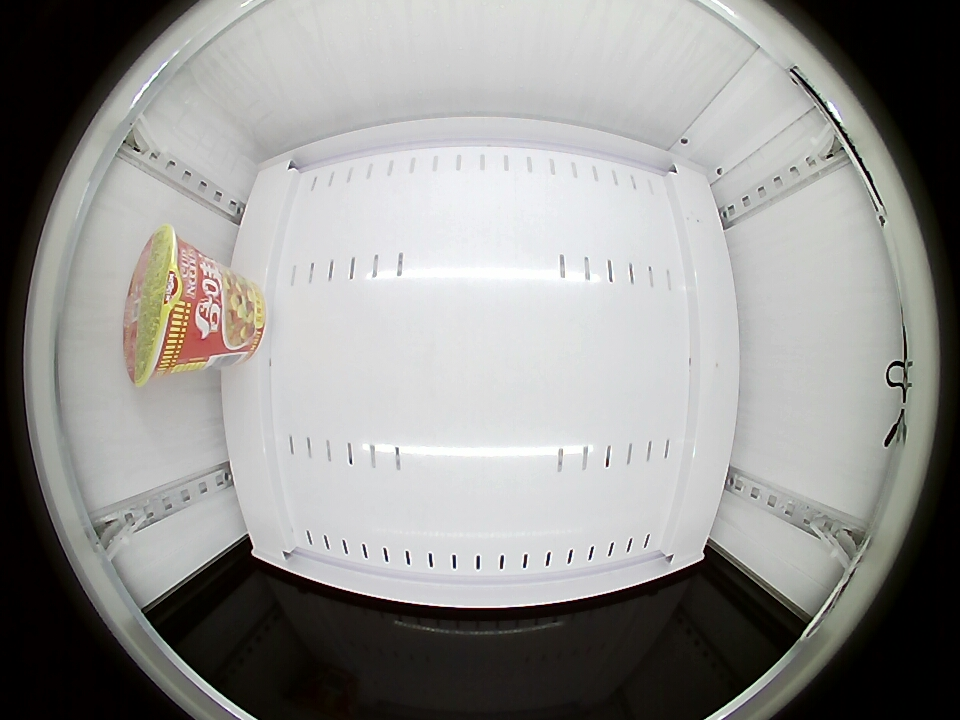heweidao3: (123, 226, 204, 386)
